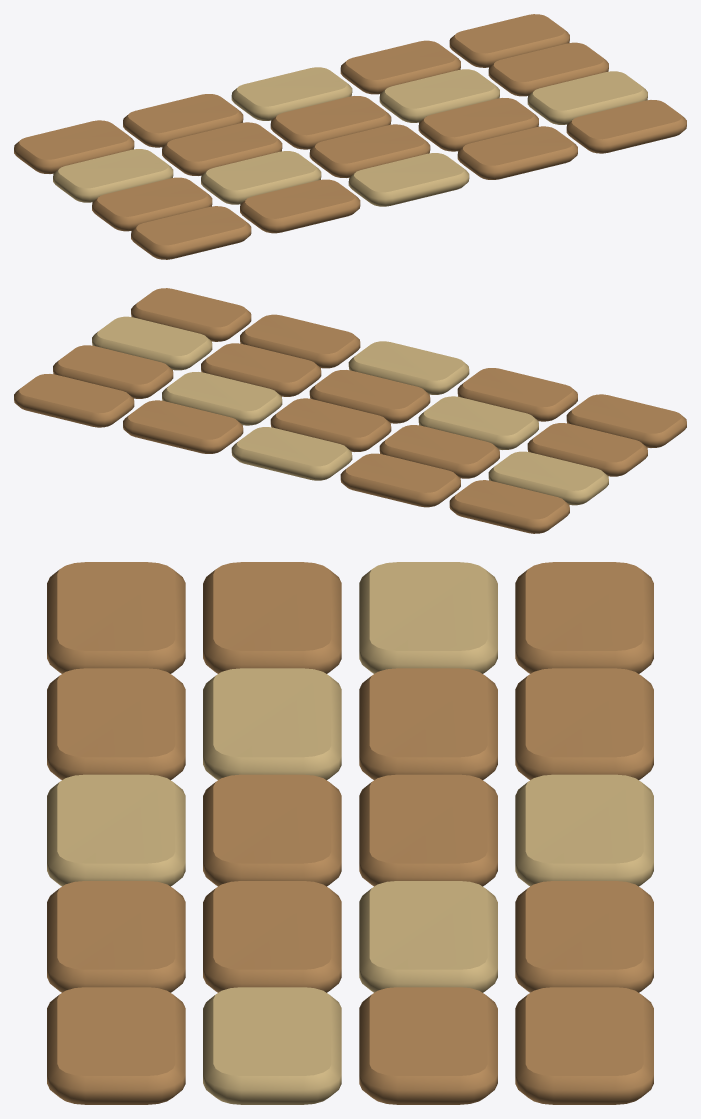
The model's file is paving_2.glb.
3 renders of one model, top to bottom at view 1: azimuth 30°, elevation 25°; view 2: azimuth 150°, elevation 25°; view 3: azimuth 270°, elevation 25°, orthographic. The views are drawn at different scales.
Visible parts, largest first — view 1: Paving; view 2: Paving; view 3: Paving.
Part boxes in pixels (x1,y1,x2,y2): Paving: (14,14,686,259); Paving: (14,288,686,533); Paving: (47,562,653,1104).
Size of the model in its own units: 4.28 by 0.11 by 2.1.
